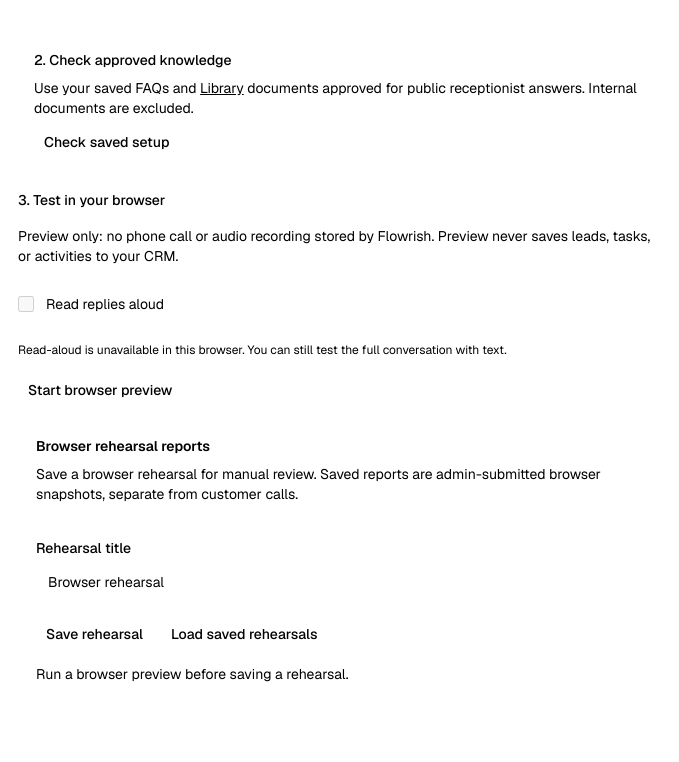
receptionist onboarding and browser preview › clears an active conversation on edits and offers restart after stale saved settings
This screenshot has width=679, height=762.
(page scrolled)
Click the button "Start browser preview" at x=100, y=390, box [18,374,182,406]
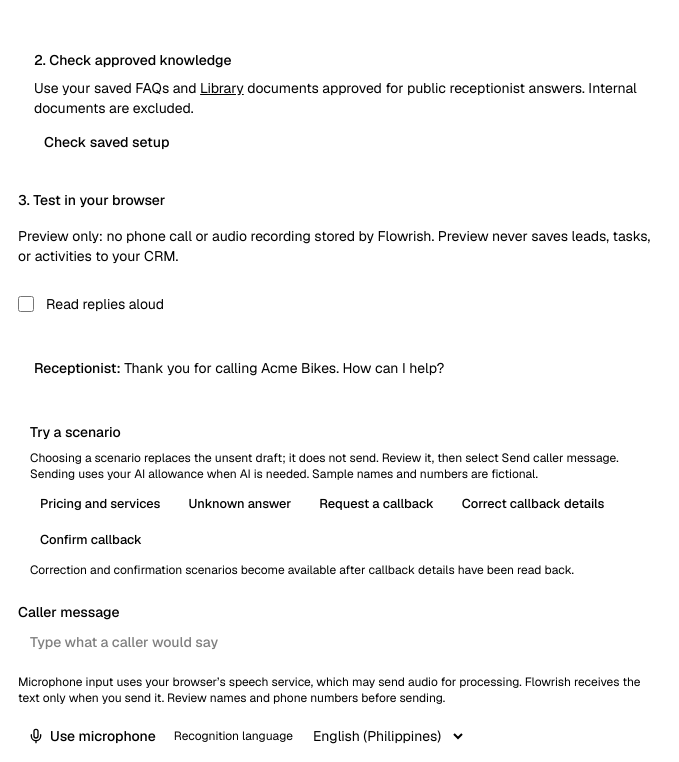
Expected: the text "Thank you for calling Acme Bikes. How can I help?" is shown, [124,359,444,377]
Type "Hello" into the field labelled "Caller message" at x=340, y=642, box [18,622,662,662]
(page scrolled)
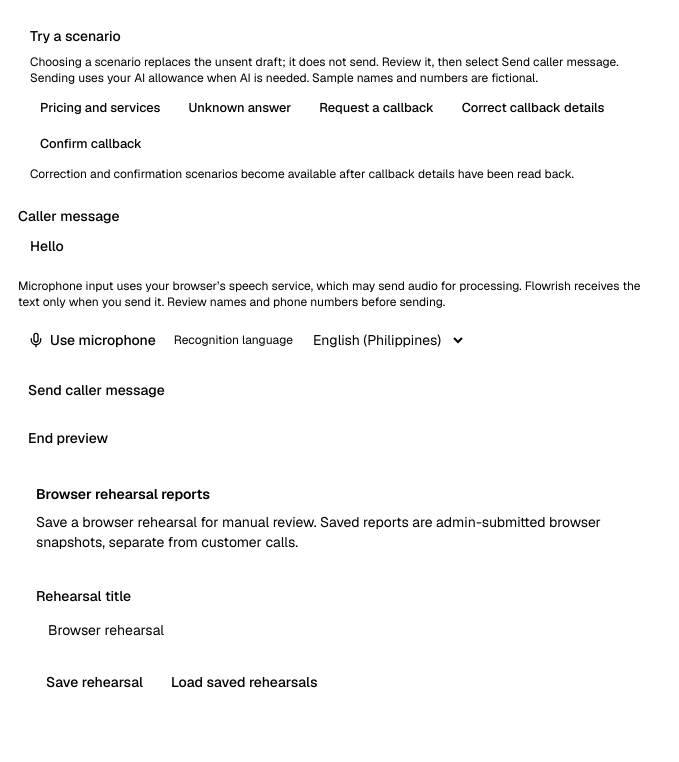
Click the button "Send caller message" at x=96, y=390, box [18,374,175,406]
(page scrolled)
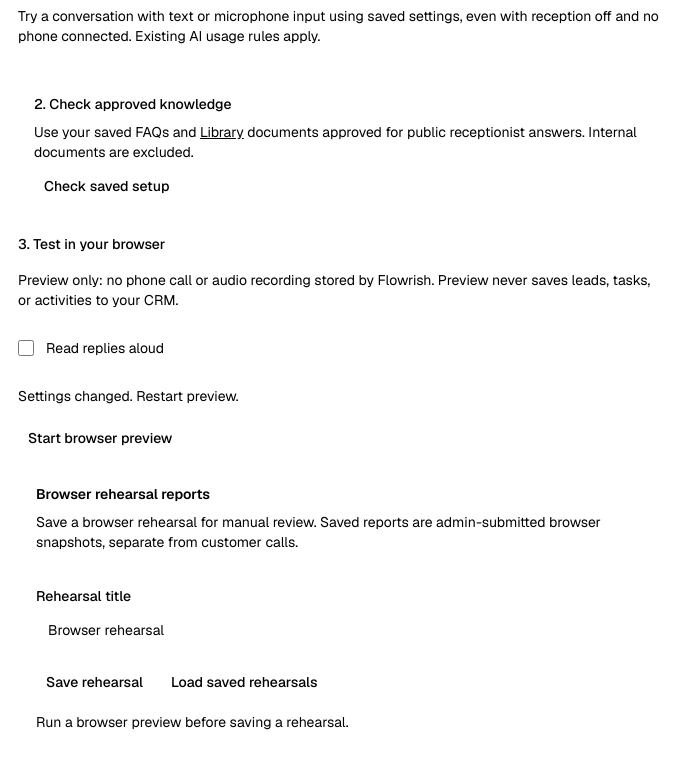
Expected: the message reads "Settings changed. Restart preview.", [18,387,239,405]
Expected: the button "Start browser preview" is enabled
Click the button "Start browser preview" at x=100, y=438, box [18,422,182,454]
(page scrolled)
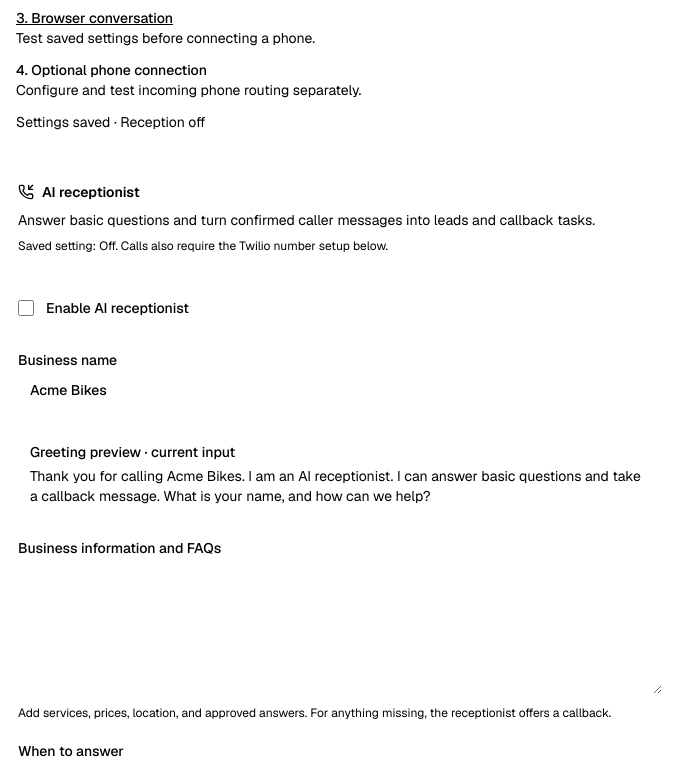
Replace the text in the field labelled "Business name" with "New name" at x=340, y=390, box [18,370,662,410]
(page scrolled)
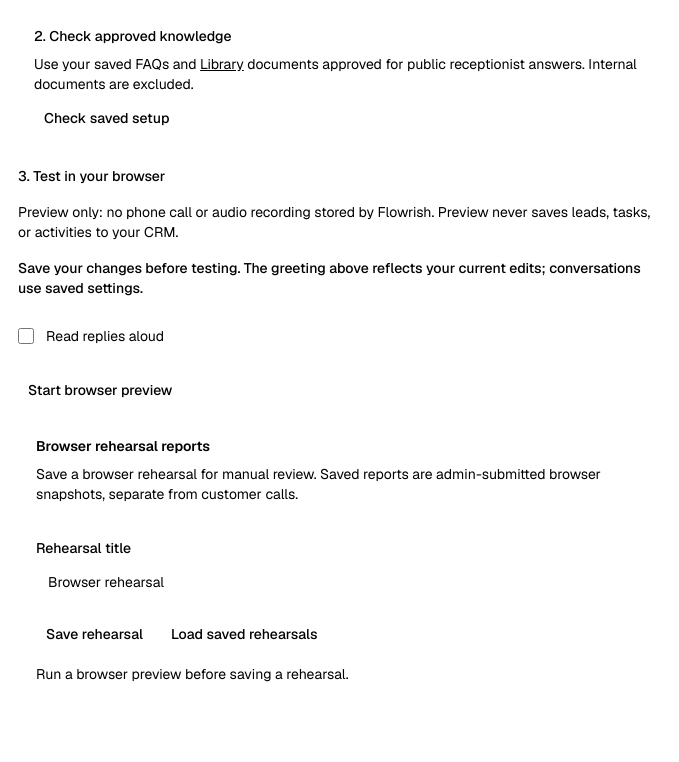
Expected: the text "Thank you for calling Acme Bikes. How can I help?" is not shown
Expected: the button "Start browser preview" is disabled, [18,374,182,406]
